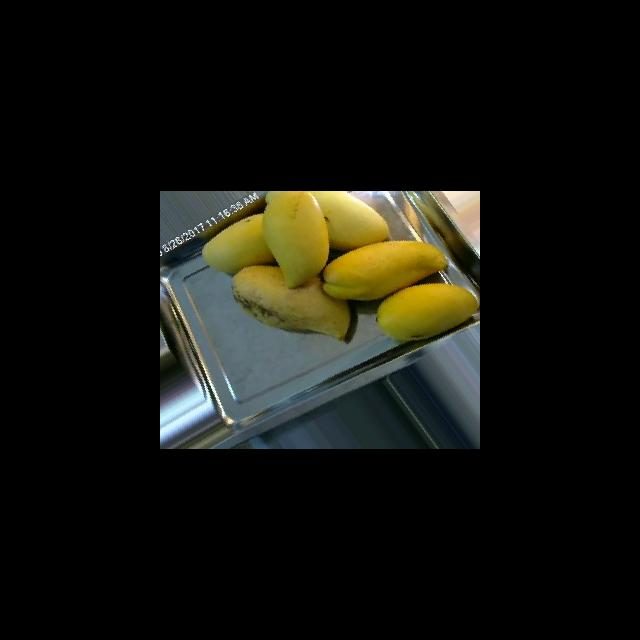Mango: (231, 264, 351, 341), (321, 239, 448, 301), (375, 282, 478, 343)
